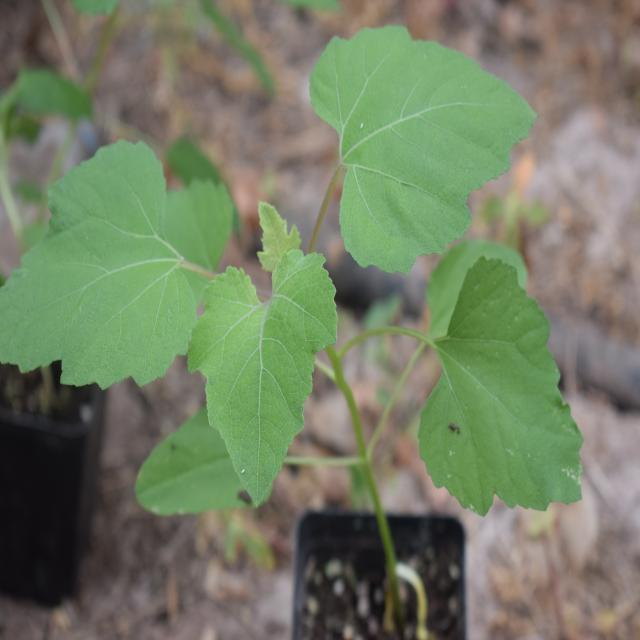cocklebur: (23, 18, 595, 528)
